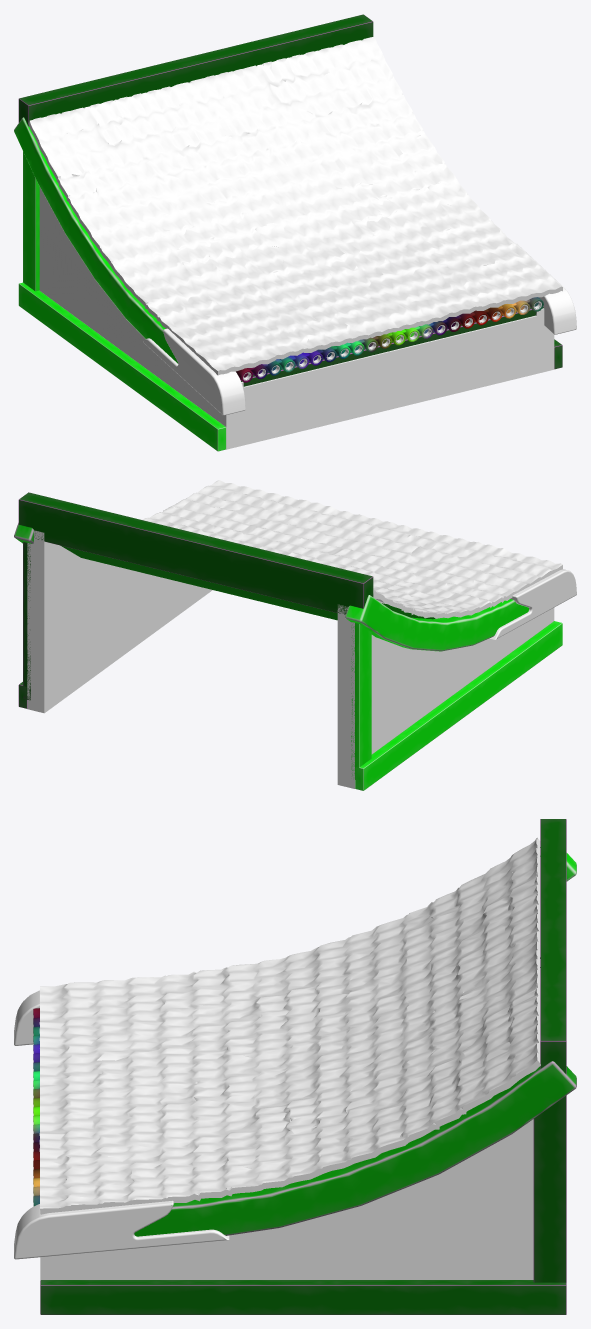
File: roof_standalone_400x400_01.fbx
The picture shows the model from 3 angles, top to bottom: view 1: azimuth 30°, elevation 25°; view 2: azimuth 150°, elevation 25°; view 3: azimuth 270°, elevation 25°; orthographic projection. The views are drawn at different scales.
Visible parts, largest first — view 1: roof_standalone_400x400_01; view 2: roof_standalone_400x400_01; view 3: roof_standalone_400x400_01.
Part boxes in pixels (<box>): roof_standalone_400x400_01: <box>14,14,576,451</box>; roof_standalone_400x400_01: <box>14,480,576,790</box>; roof_standalone_400x400_01: <box>14,819,576,1314</box>.
Size of the model in its own units: 4.11 by 2.3 by 4.28.
